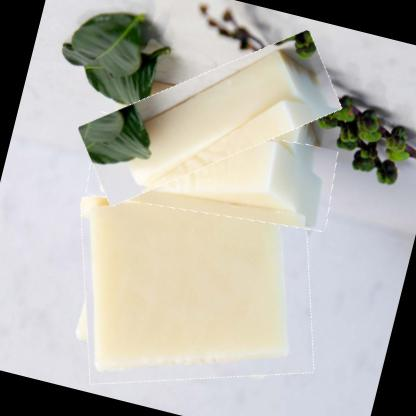soap: (51, 150, 343, 415), (69, 13, 350, 222), (82, 98, 342, 247)
